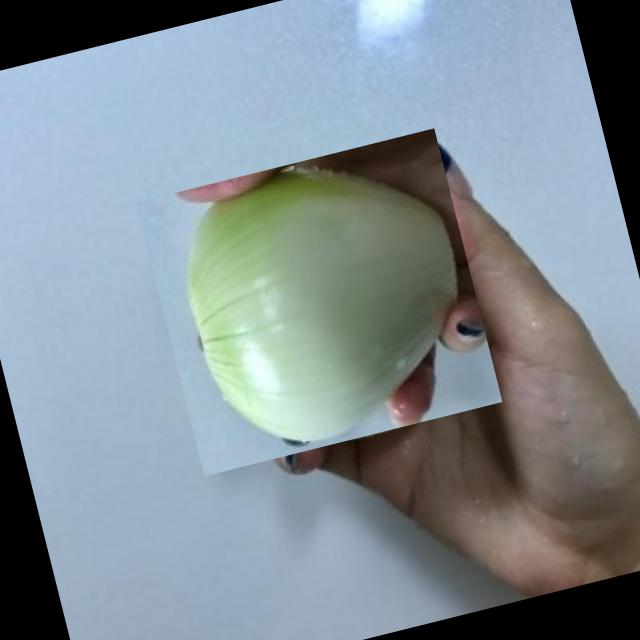Onion: (140, 123, 498, 481)
